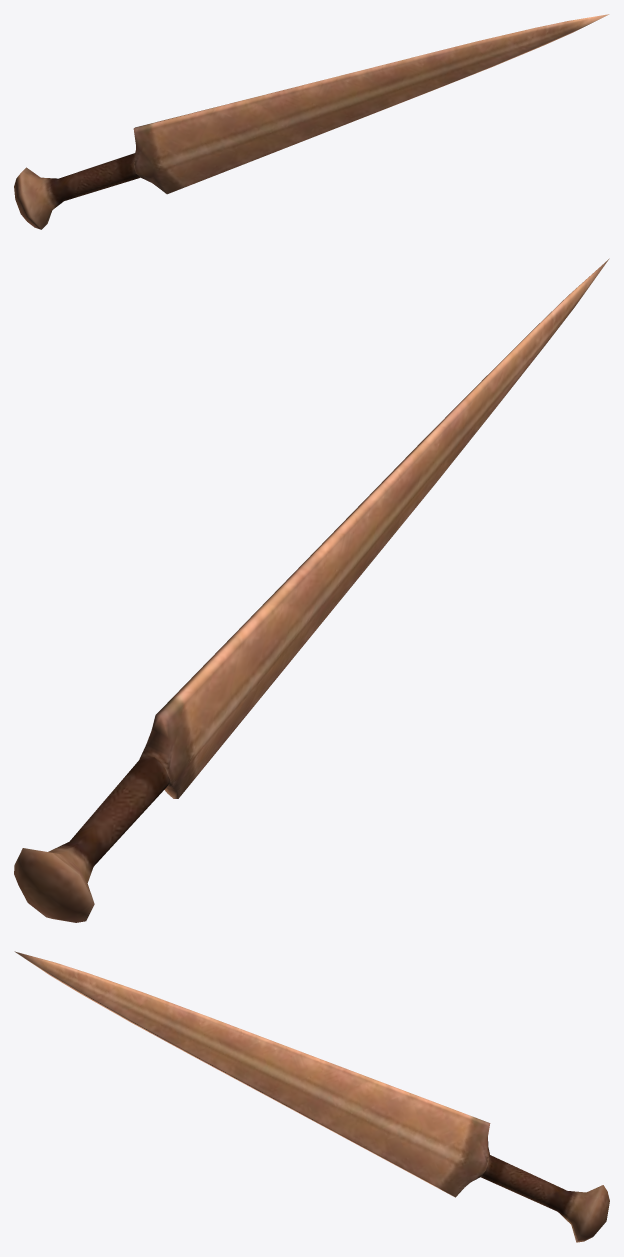
Rendered from weapon-base.glb.
The picture shows the model from 3 angles, top to bottom: view 1: azimuth 90°, elevation 25°; view 2: azimuth 150°, elevation 25°; view 3: azimuth 270°, elevation 25°; orthographic projection. The views are drawn at different scales.
Bounding box in the file's own units: 0.1921 × 0.4274 × 0.9212.
1 material, 1 textured.
